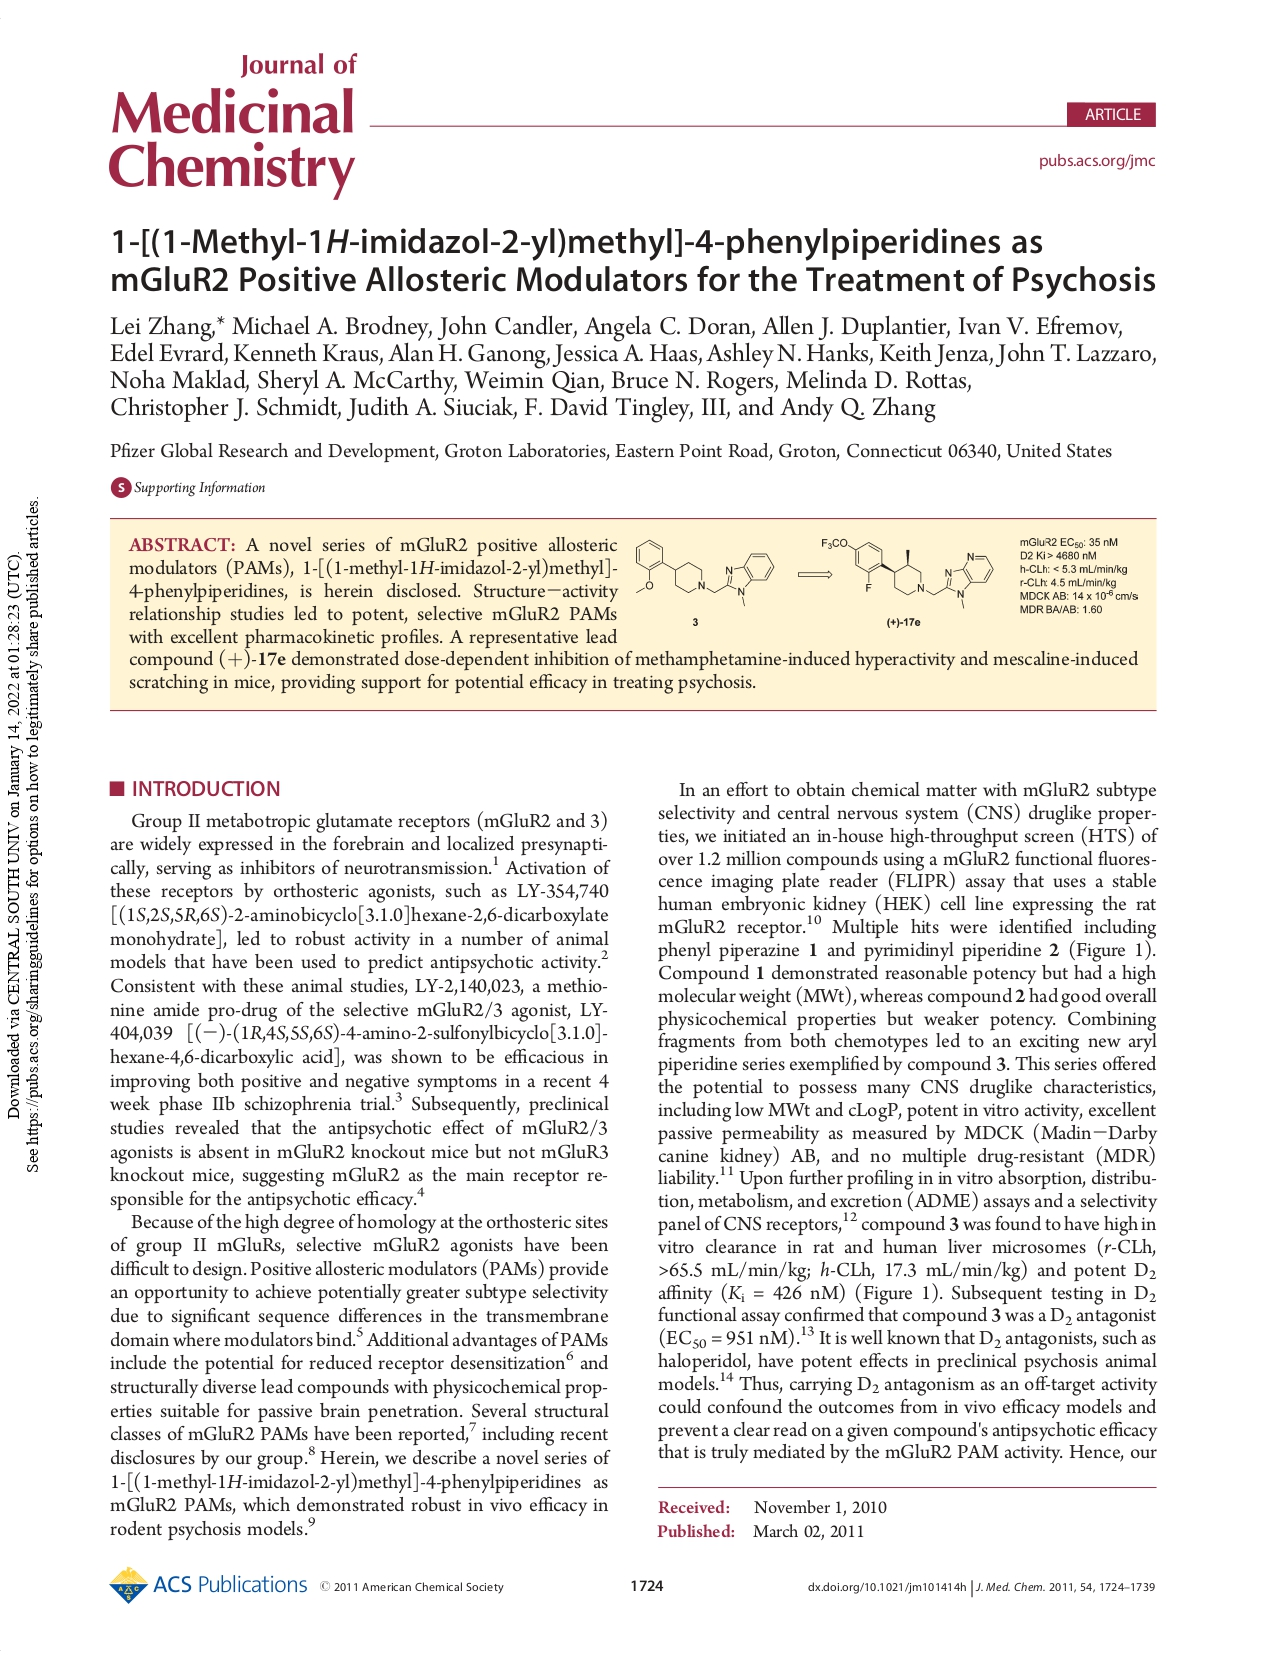exist_molecular: (818, 535, 995, 609), (628, 539, 777, 606)
